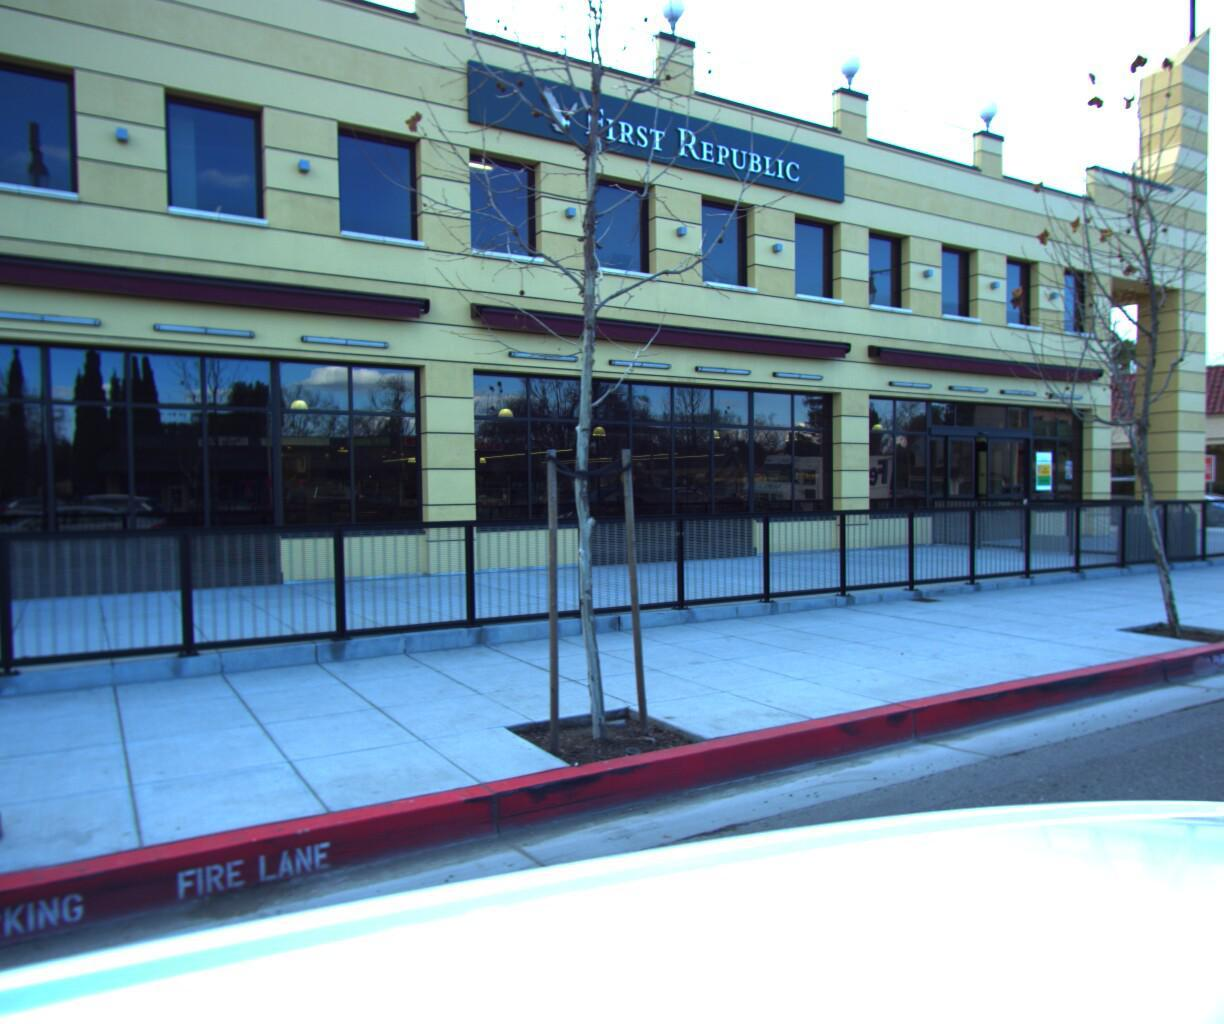car: (1064, 465, 1224, 525)
